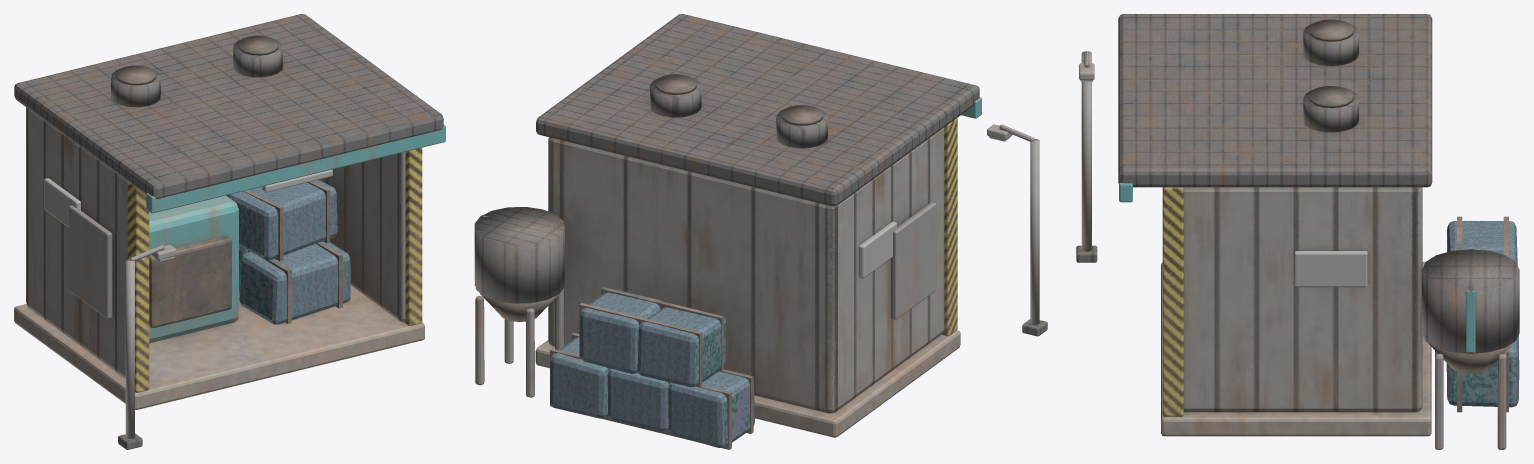
Rendered from woodcutter.glb.
3 renders of one model, left to right at view 1: azimuth 30°, elevation 25°; view 2: azimuth 150°, elevation 25°; view 3: azimuth 270°, elevation 25°, orthographic. The views are drawn at different scales.
Visible parts, largest first — view 1: woodcutter, Glow; view 2: woodcutter, Glow; view 3: woodcutter, Glow.
Boxes of the visible parts, x1,y1,x2,y2 form: woodcutter: [14, 14, 445, 449]; Glow: [44, 169, 332, 261]; woodcutter: [474, 14, 1047, 449]; Glow: [859, 136, 1010, 278]; woodcutter: [1076, 14, 1519, 449]; Glow: [1080, 80, 1367, 287].
Size of the model in its own units: 2.74 by 1.86 by 2.54.
3 materials, 1 textured.
